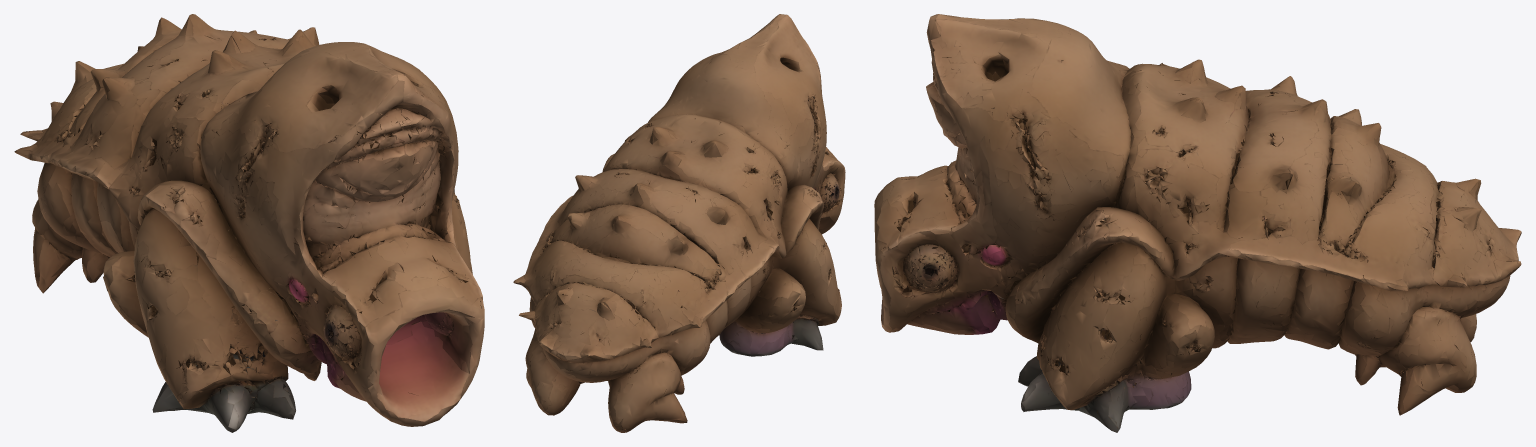
Rendered from lirm-armature-22__basin-03-s3p00-n00-p046-preserve-gestalt-seed717046.glb.
The picture shows the model from 3 angles, left to right: view 1: azimuth 30°, elevation 25°; view 2: azimuth 150°, elevation 25°; view 3: azimuth 270°, elevation 25°; orthographic projection. The views are drawn at different scales.
Parts seen in each view (by area): view 1: world; view 2: world; view 3: world.
Boxes of the visible parts, x1,y1,x2,y2 form: world: (14, 14, 484, 432); world: (513, 14, 845, 432); world: (874, 14, 1521, 432).
Size of the model in its own units: 0.5324 by 0.5975 by 0.9912.
Materials: 1 (1 with a texture image).
